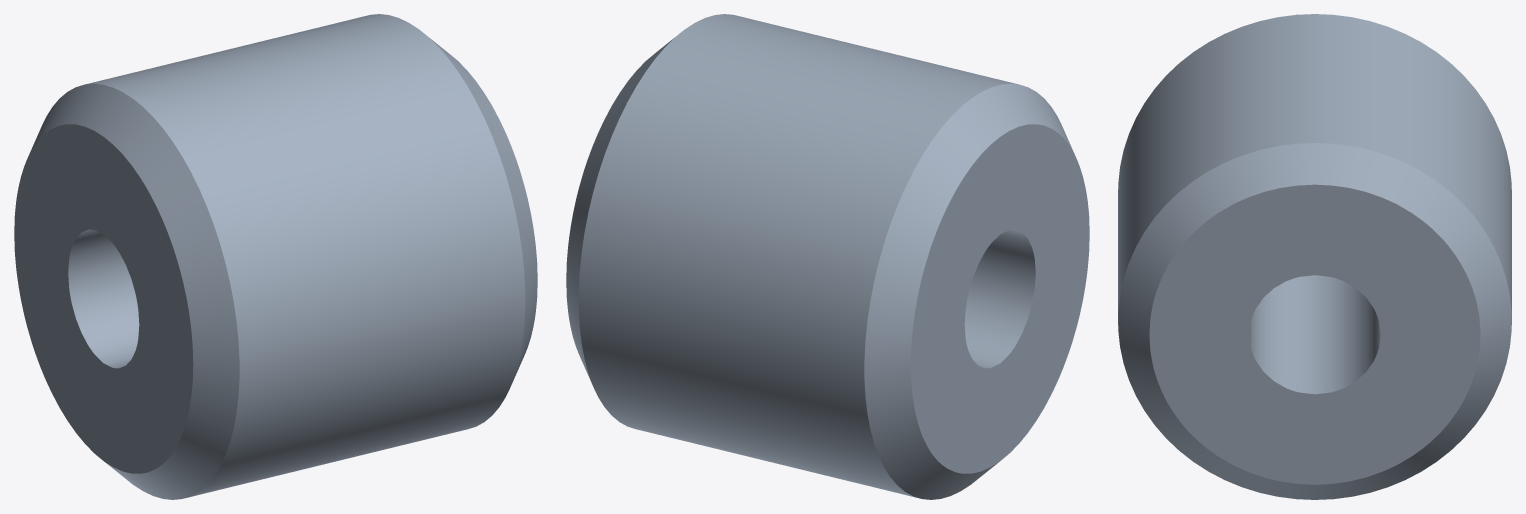
The model's file is rocker_arm_roller.obj.
3 views of the same model, side by side, from view 1: azimuth 30°, elevation 25°; view 2: azimuth 150°, elevation 25°; view 3: azimuth 270°, elevation 25° (orthographic). The views are drawn at different scales.
Visible parts, largest first — view 1: 1; view 2: 1; view 3: 1.
Part boxes in pixels (left/top/right/bottom): 1: left=14, top=14, right=537, bottom=499; 1: left=566, top=14, right=1089, bottom=499; 1: left=1118, top=14, right=1511, bottom=499.
Bounding box in the file's own units: 8.9 × 9.53 × 9.53.
